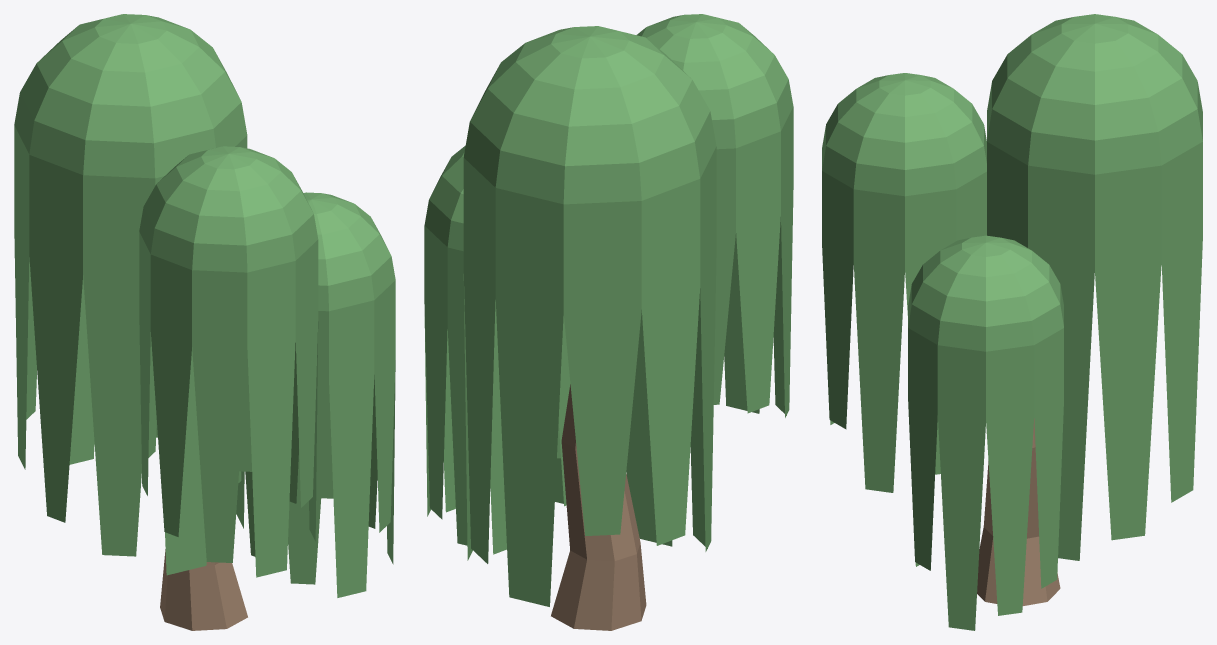
File: tree1.fbx
3 renders of one model, left to right at view 1: azimuth 30°, elevation 25°; view 2: azimuth 150°, elevation 25°; view 3: azimuth 270°, elevation 25°, orthographic. The views are drawn at different scales.
Parts seen in each view (by area): view 1: tree24; view 2: tree24; view 3: tree24.
Part boxes in pixels (x1=…): tree24: x1=14, y1=14, x2=395, y2=630; tree24: x1=424, y1=14, x2=793, y2=630; tree24: x1=822, y1=14, x2=1202, y2=630.
Size of the model in its own units: 0.9132 by 1.65 by 1.04.
